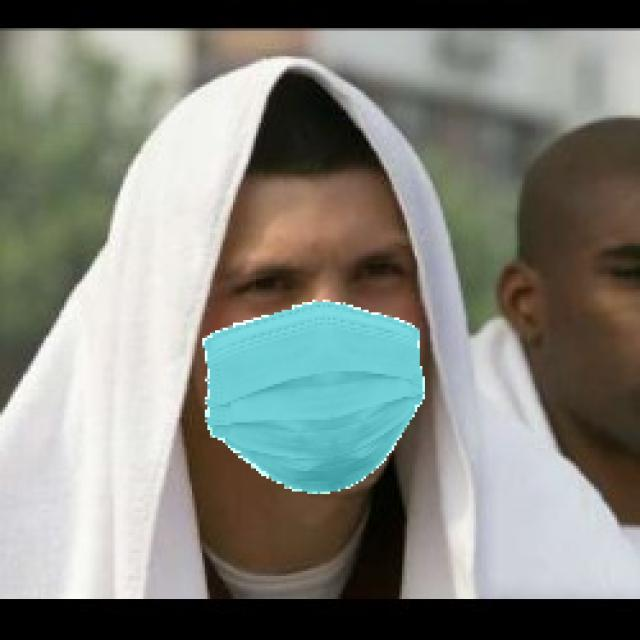mask: (172, 314, 463, 506)
